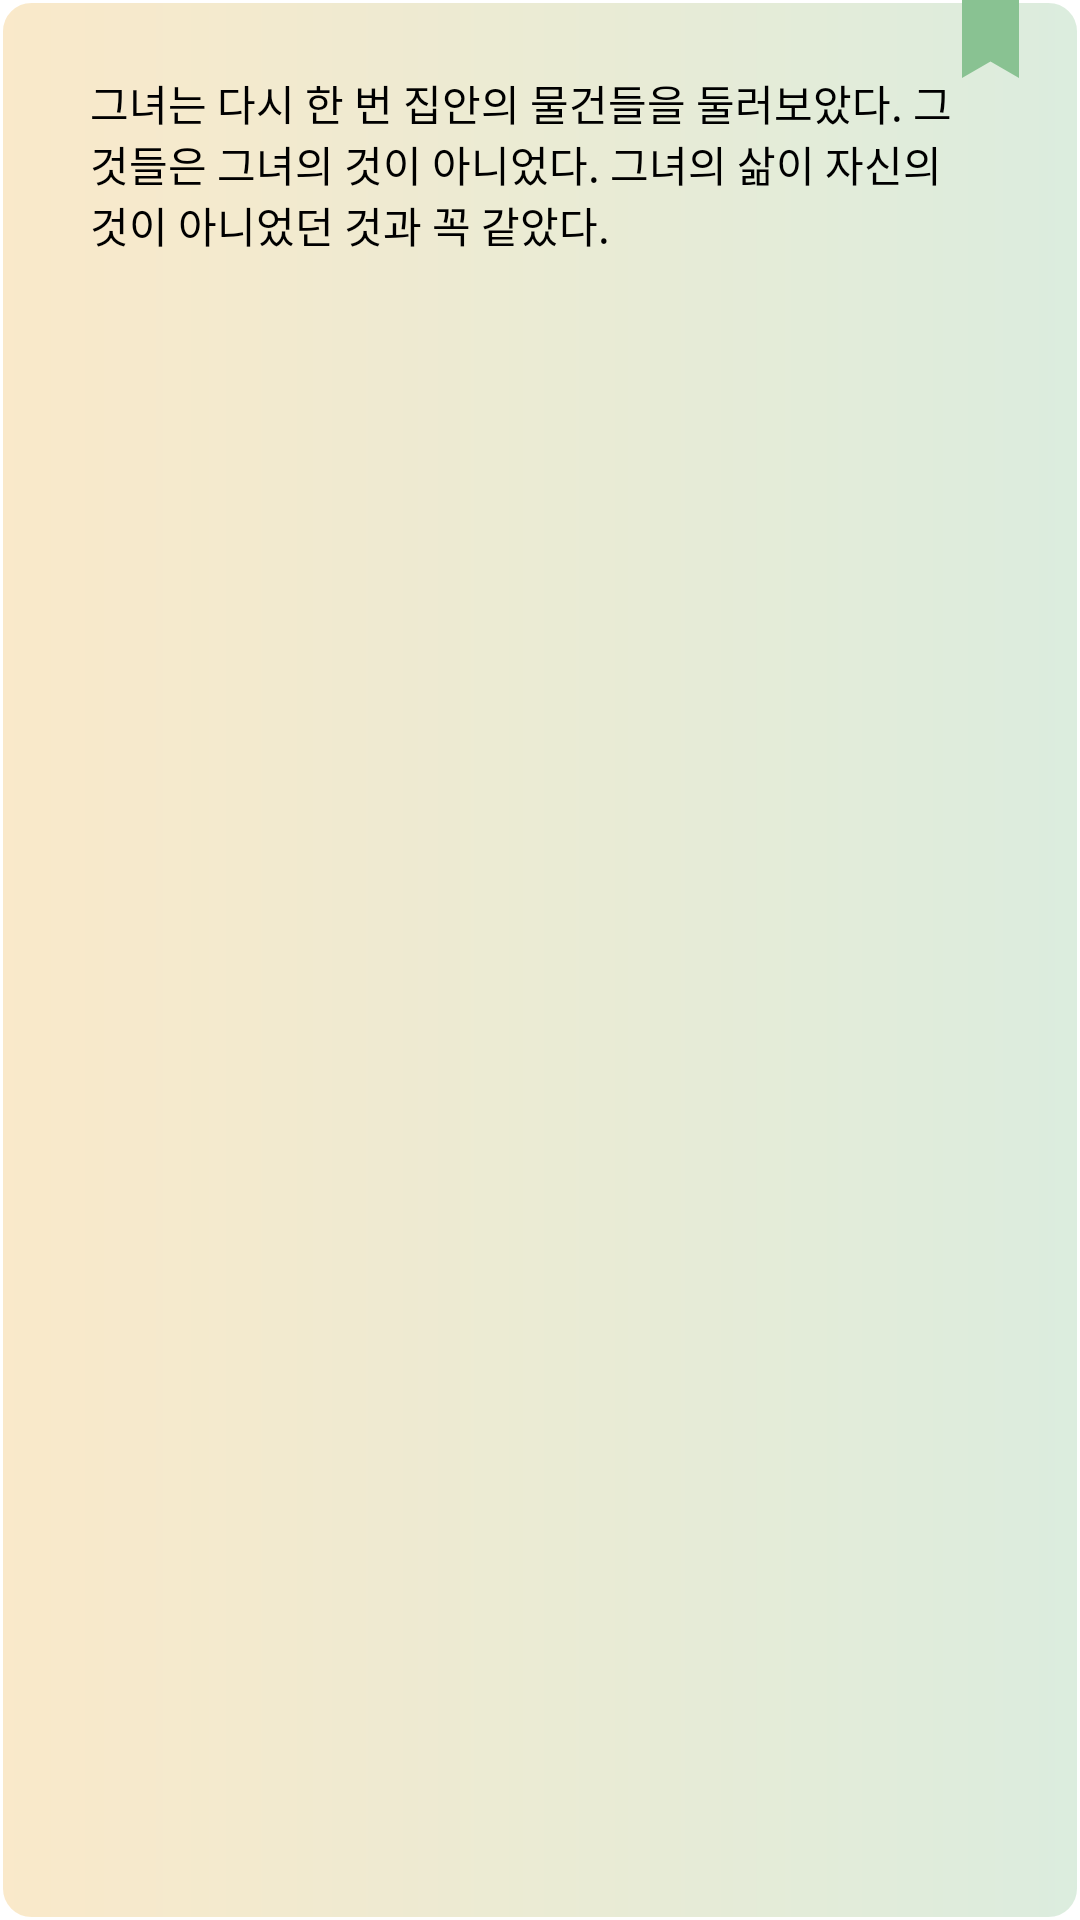

Named icons in this screenshot (1080*1920) and their centers, [x,y]:
ribbon: [990,39]
